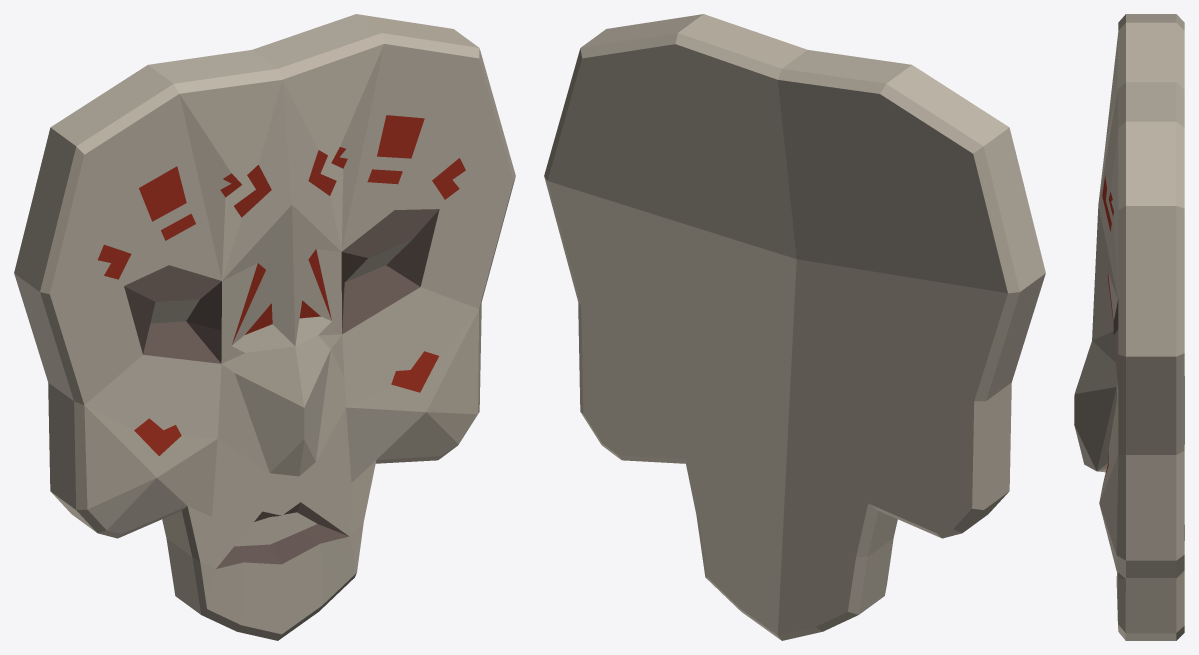
Rendered from boneMask.glb.
The picture shows the model from 3 angles, left to right: view 1: azimuth 30°, elevation 25°; view 2: azimuth 150°, elevation 25°; view 3: azimuth 270°, elevation 25°; orthographic projection. The views are drawn at different scales.
Visible parts, largest first — view 1: Plane; view 2: Plane; view 3: Plane.
Part boxes in pixels (box(x1,y1,x2,y2)): Plane: box(14, 14, 515, 640); Plane: box(544, 14, 1045, 640); Plane: box(1074, 14, 1184, 640).
Size of the model in its own units: 0.4573 by 0.5349 by 0.0944.
